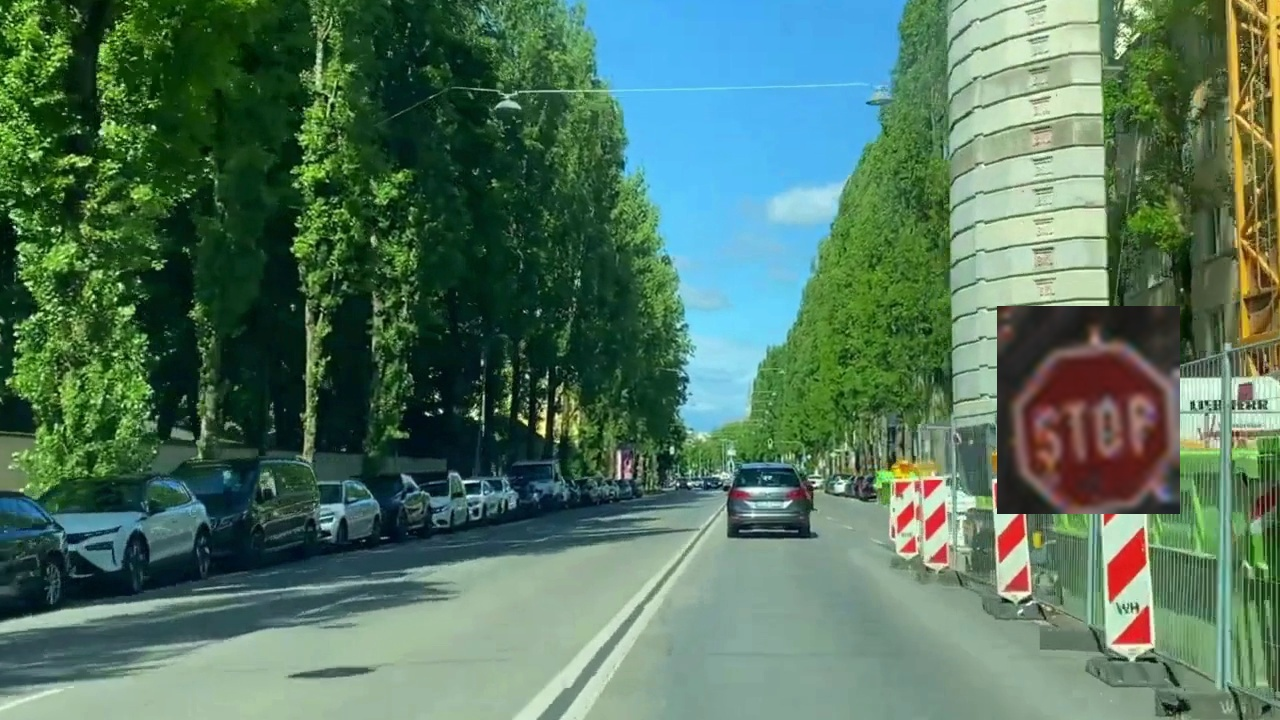Stop: (997, 306, 1180, 514)
